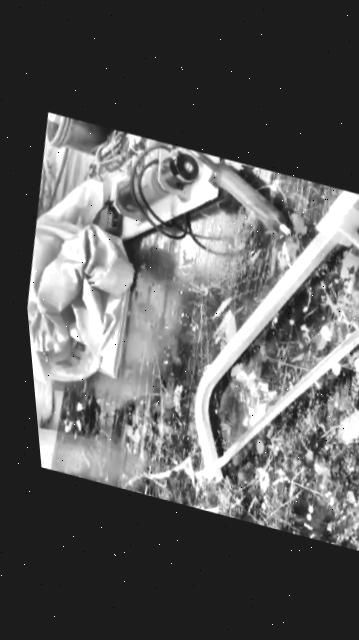pot: (41, 111, 125, 167)
